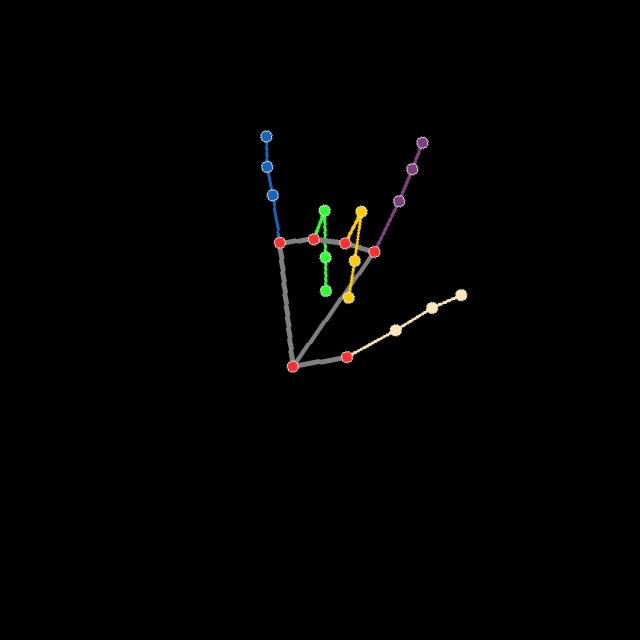spiderman: (239, 121, 470, 376)
